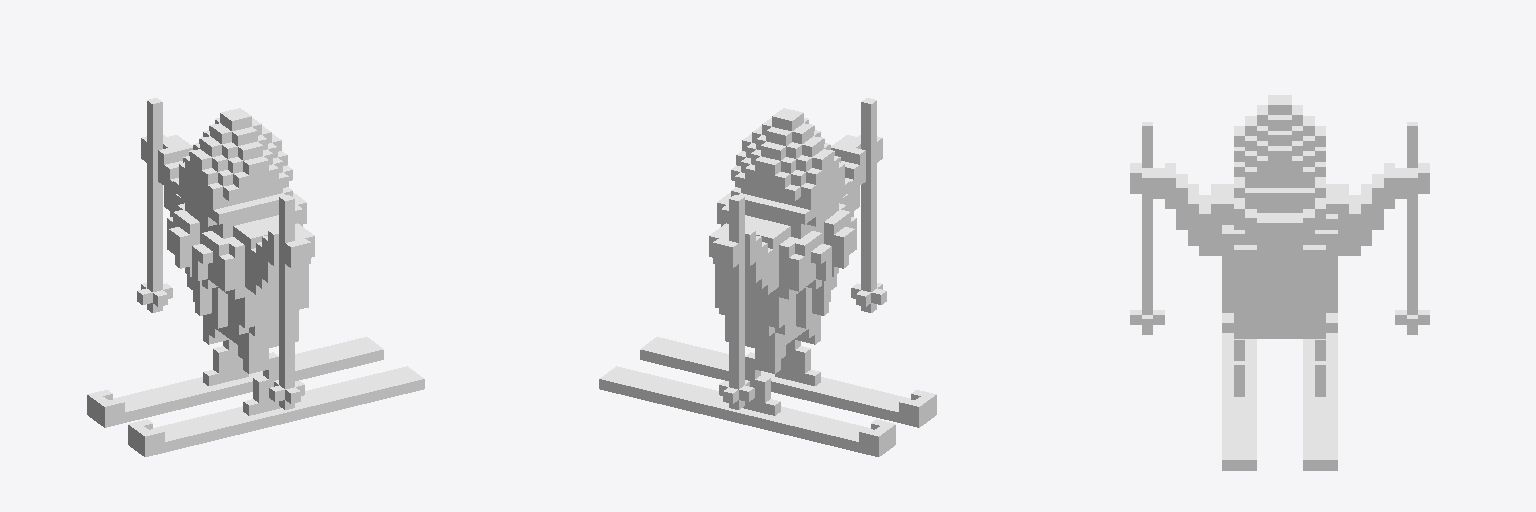
Rendered from Saut_3_Frame_01.obj.
3 views of the same model, side by side, from view 1: azimuth 30°, elevation 25°; view 2: azimuth 150°, elevation 25°; view 3: azimuth 270°, elevation 25° (orthographic).
Size of the model in its own units: 28 by 28 by 26.